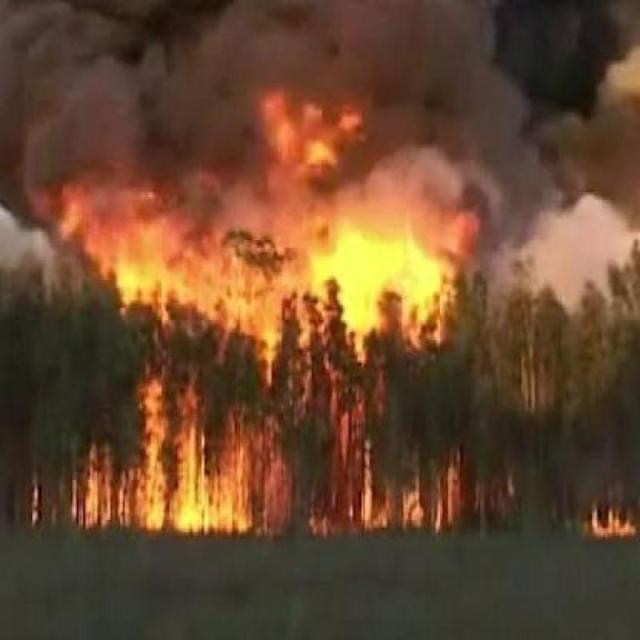Fire: (25, 132, 640, 534)
Smoke: (0, 0, 640, 168)
